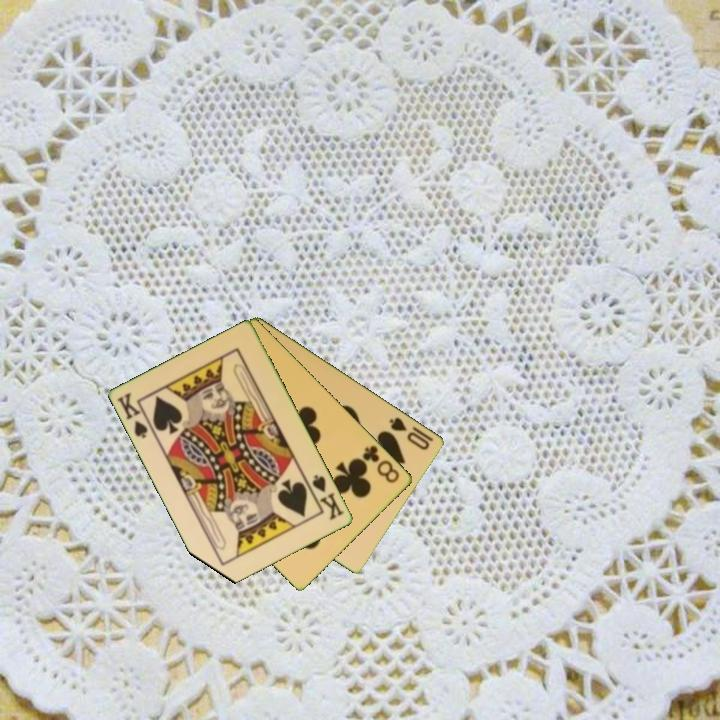10s: (386, 413, 433, 453)
8c: (359, 442, 403, 486)
Ks: (304, 471, 347, 523), (114, 389, 157, 441)
